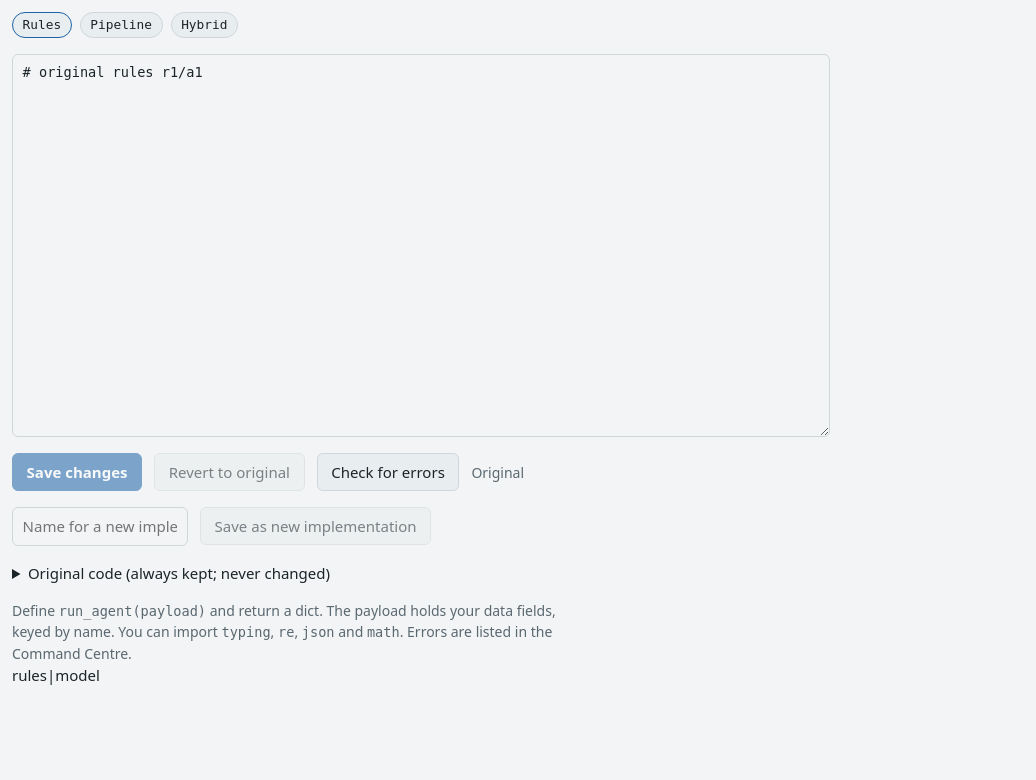
CodePanel Check for errors › failure shows an alert and goes to the report
Replace the text in the text box named "Python Source" with "BOOM": (421, 246) [12,54,830,437]
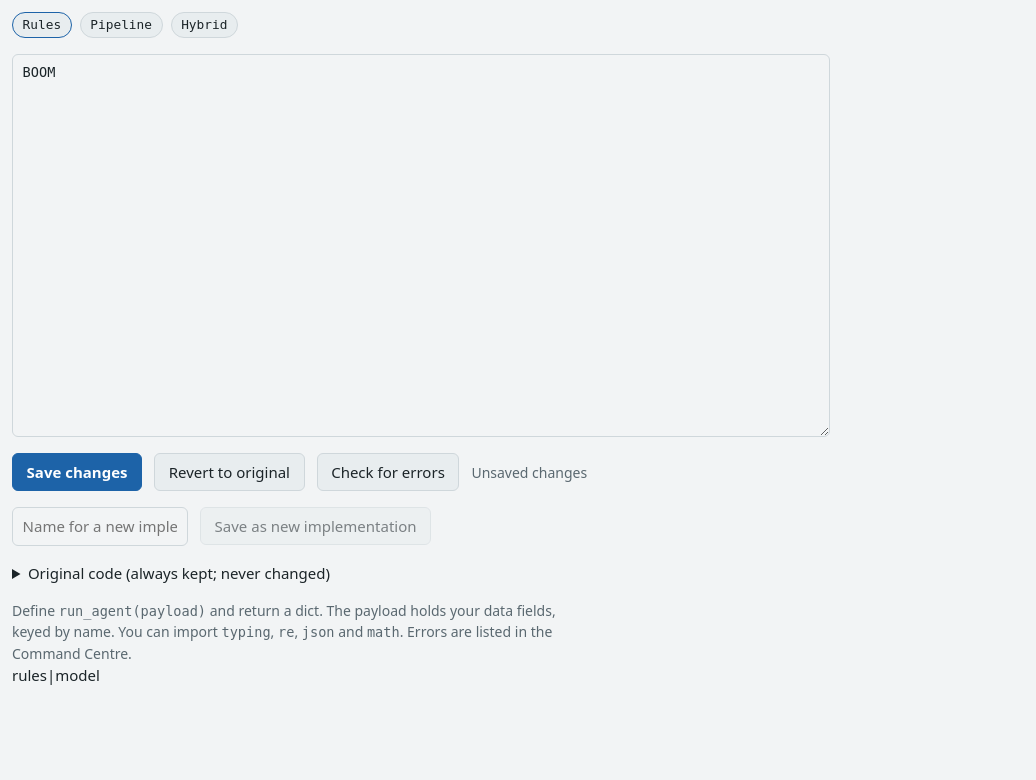
Click the button "Check for errors": click(388, 472) [317,453,459,491]
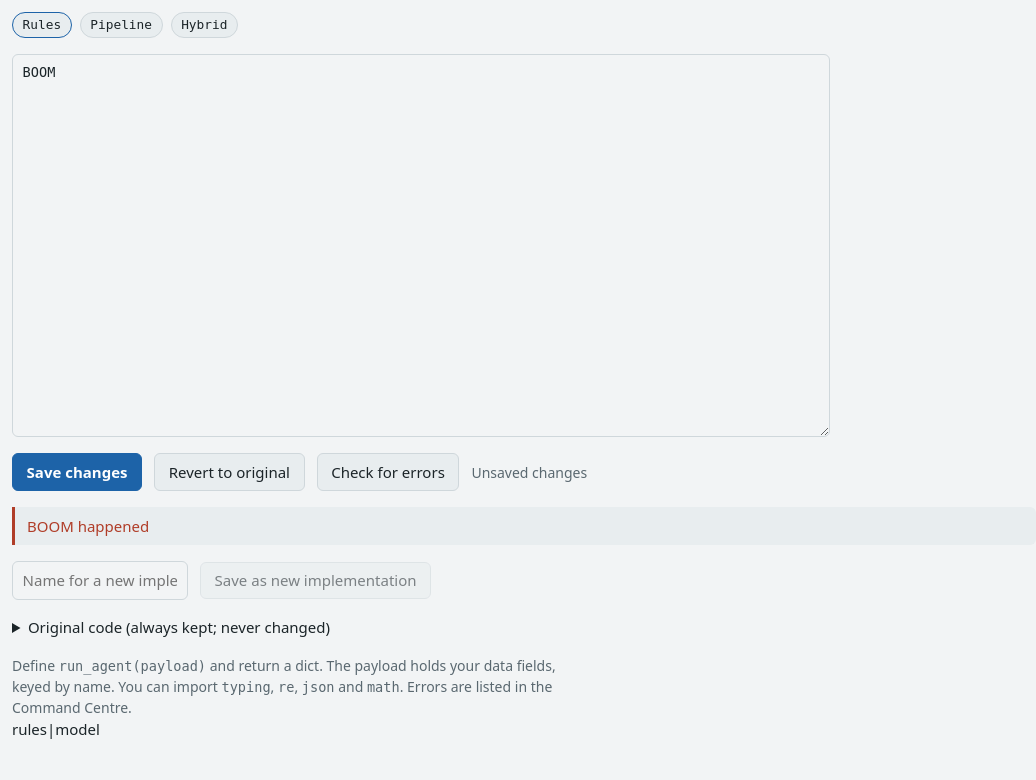
Now the message "BOOM happened" is shown, box [12,507,1035,545]
